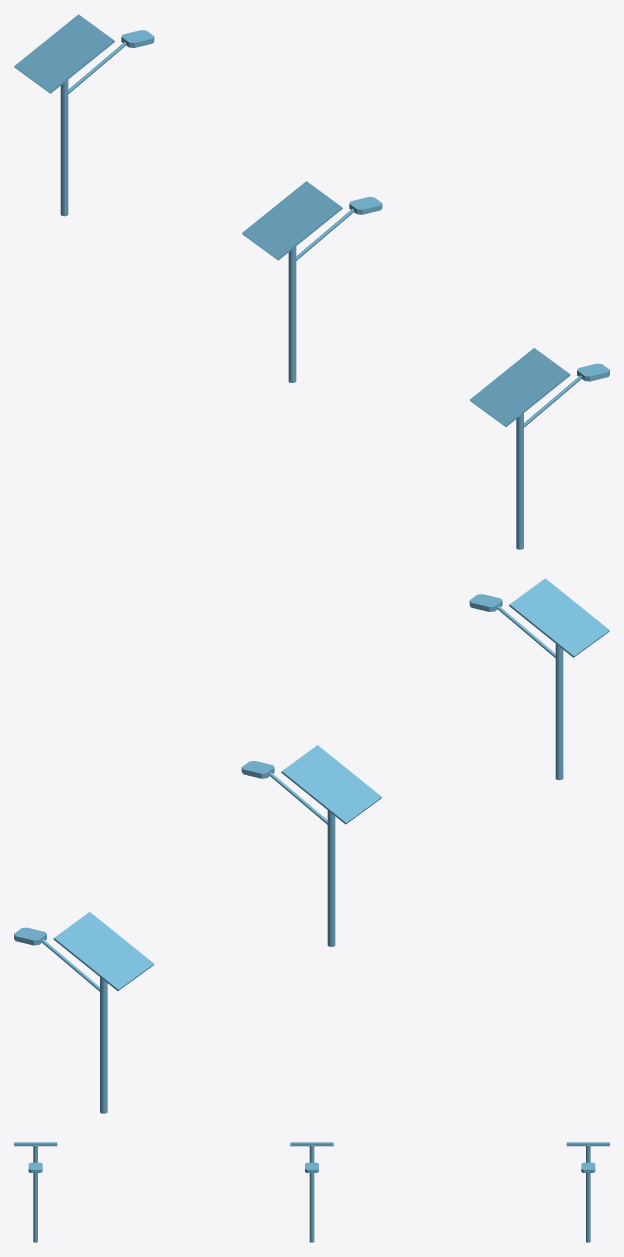
File: lampu.glb
3 views of the same model, one above another, from view 1: azimuth 30°, elevation 25°; view 2: azimuth 150°, elevation 25°; view 3: azimuth 270°, elevation 25° (orthographic). The views are drawn at different scales.
Parts seen in each view (by area): view 1: Cube, Cube.001, Cube.002; view 2: Cube, Cube.002, Cube.001; view 3: Cube, Cube.001, Cube.002.
Boxes of the visible parts, x1,y1,x2,y2 form: Cube: (242, 181, 382, 382); Cube.001: (14, 14, 154, 216); Cube.002: (470, 348, 609, 549); Cube: (241, 745, 381, 946); Cube.002: (469, 578, 609, 780); Cube.001: (14, 912, 153, 1113); Cube: (290, 1142, 333, 1242); Cube.001: (566, 1142, 609, 1242); Cube.002: (14, 1142, 57, 1242).
Size of the model in its own units: 1.21 by 1.75 by 8.7.
